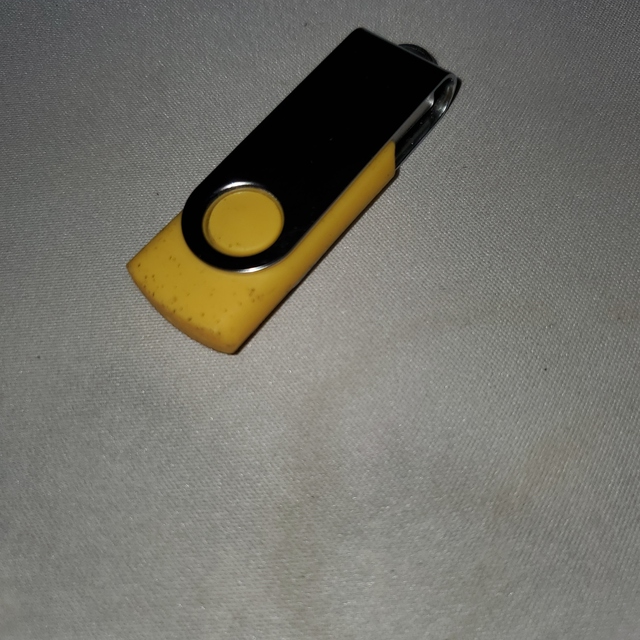usb_drive: (124, 24, 478, 370)
